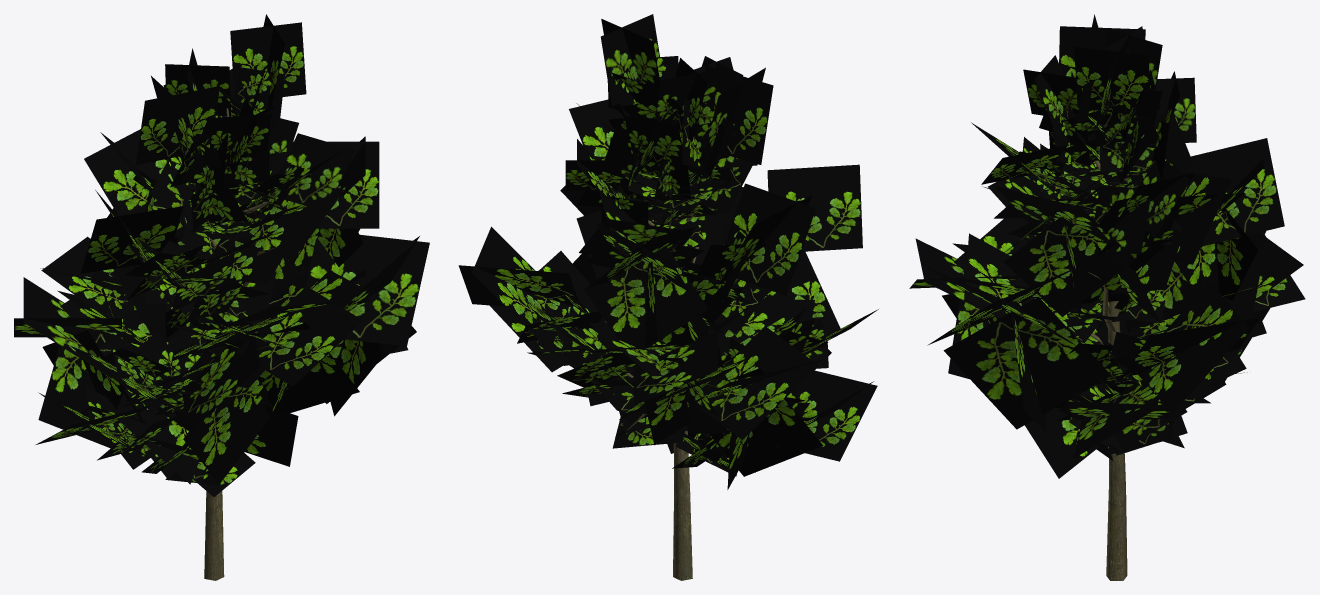
The model's file is TreeLowpoly.gltf.
3 views of the same model, side by side, from view 1: azimuth 30°, elevation 25°; view 2: azimuth 150°, elevation 25°; view 3: azimuth 270°, elevation 25° (orthographic). The views are drawn at different scales.
Parts seen in each view (by area): view 1: leaf_A, bark; view 2: leaf_A, bark; view 3: leaf_A, bark.
Boxes of the visible parts, left/top/right/bottom form: leaf_A: left=14, top=14, right=429, bottom=496; bark: left=162, top=108, right=275, bottom=580; leaf_A: left=458, top=14, right=878, bottom=489; bark: left=613, top=183, right=738, bottom=580; leaf_A: left=909, top=14, right=1305, bottom=478; bark: left=1055, top=114, right=1247, bottom=580.
Bounding box in the file's own units: 23.92 × 34.72 × 22.4.
Materials: 2 (2 with a texture image).
